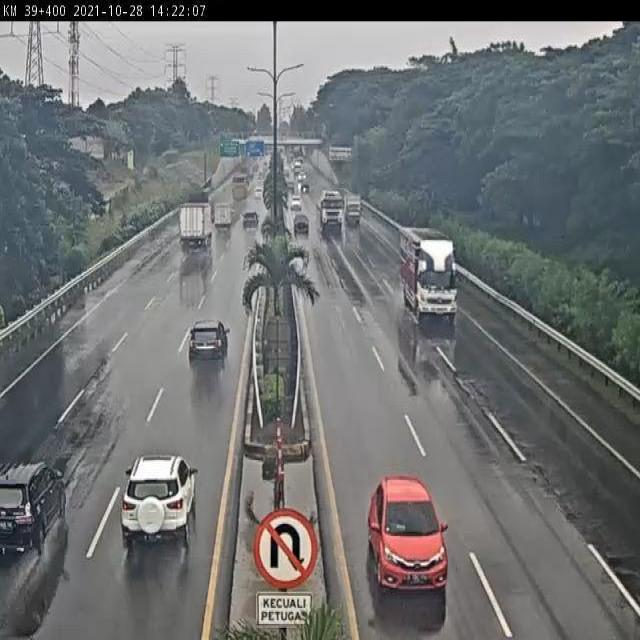car: (186, 320, 230, 369), (291, 208, 311, 236), (241, 209, 261, 231)
truck-l-: (397, 222, 460, 326), (176, 198, 215, 246)
truck-s-: (212, 200, 236, 235)
truck-xl-: (317, 187, 348, 228)
